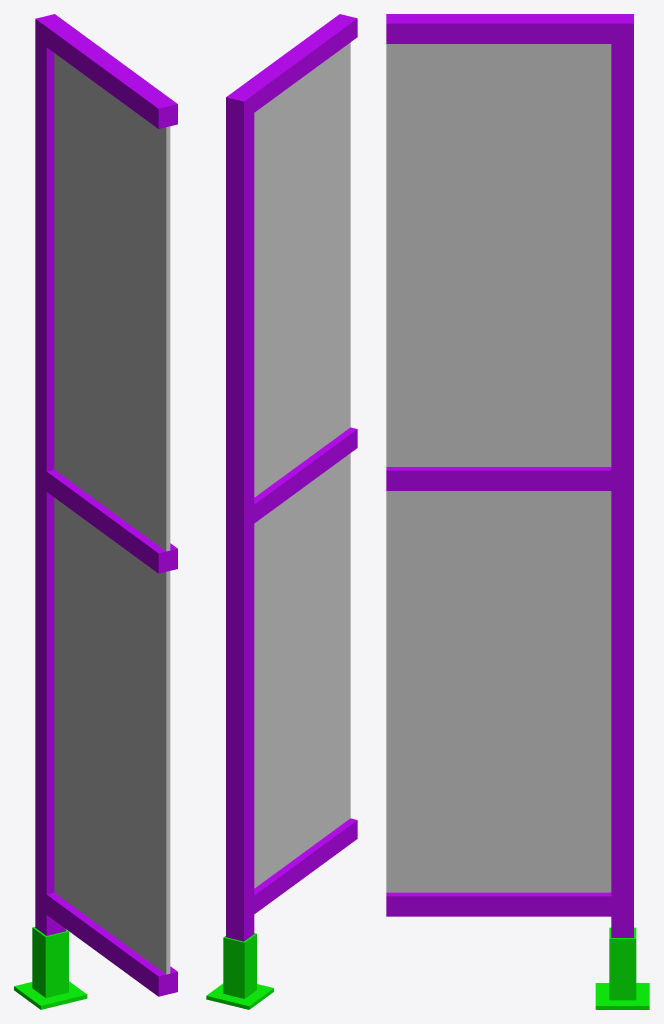
File: prop_frame_240_b.FBX
3 views of the same model, side by side, from view 1: azimuth 30°, elevation 25°; view 2: azimuth 150°, elevation 25°; view 3: azimuth 270°, elevation 25° (orthographic). The views are drawn at different scales.
Parts seen in each view (by area): view 1: frame_240_b; view 2: frame_240_b; view 3: frame_240_b.
Boxes of the visible parts, <box> form: frame_240_b: <box>14,14,177,1009</box>; frame_240_b: <box>206,14,357,1009</box>; frame_240_b: <box>386,14,649,1009</box>.
Bounding box in the file's own units: 12 × 240 × 58.5.
